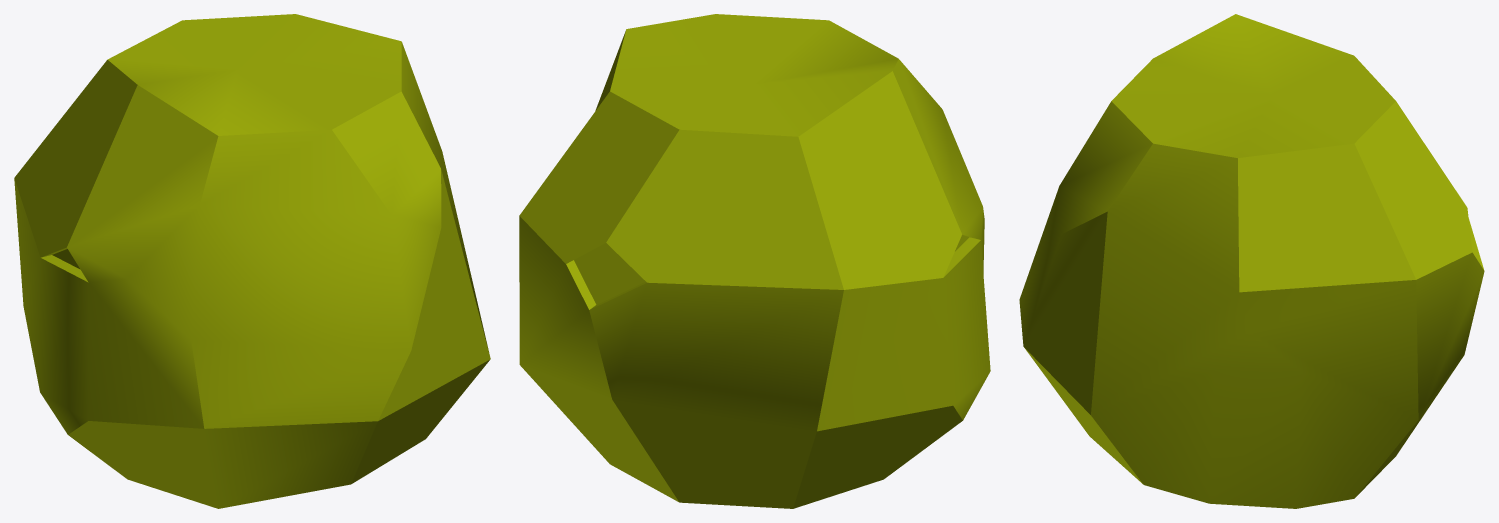
Rendered from Rocks_2.fbx.
The picture shows the model from 3 angles, left to right: view 1: azimuth 30°, elevation 25°; view 2: azimuth 150°, elevation 25°; view 3: azimuth 270°, elevation 25°; orthographic projection. The views are drawn at different scales.
Parts seen in each view (by area): view 1: MESH_Rocks_2; view 2: MESH_Rocks_2; view 3: MESH_Rocks_2.
Boxes of the visible parts, left/top/right/bottom form: MESH_Rocks_2: left=14, top=14, right=490, bottom=508; MESH_Rocks_2: left=519, top=14, right=990, bottom=508; MESH_Rocks_2: left=1019, top=14, right=1484, bottom=508.
Size of the model in its own units: 4.7 by 4.66 by 5.12.
